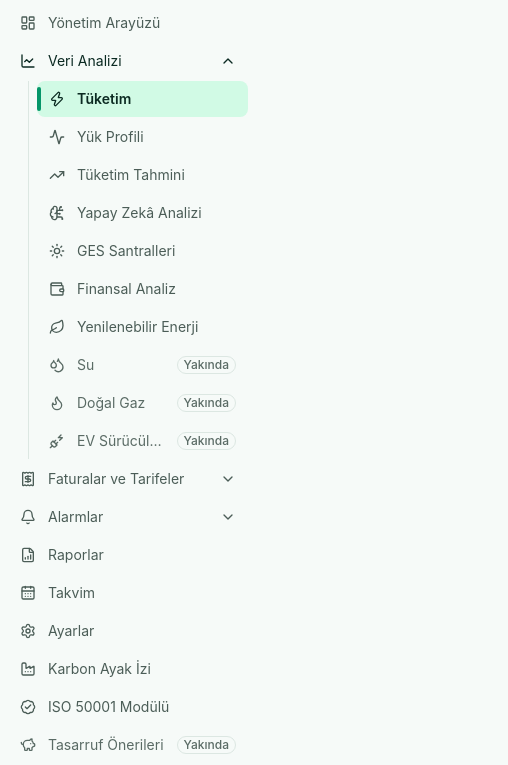
Sidebar › disabled entries are visible, not links, and explain why
Click the button "Alarmlar": {"x": 128, "y": 517} [8,499,248,535]
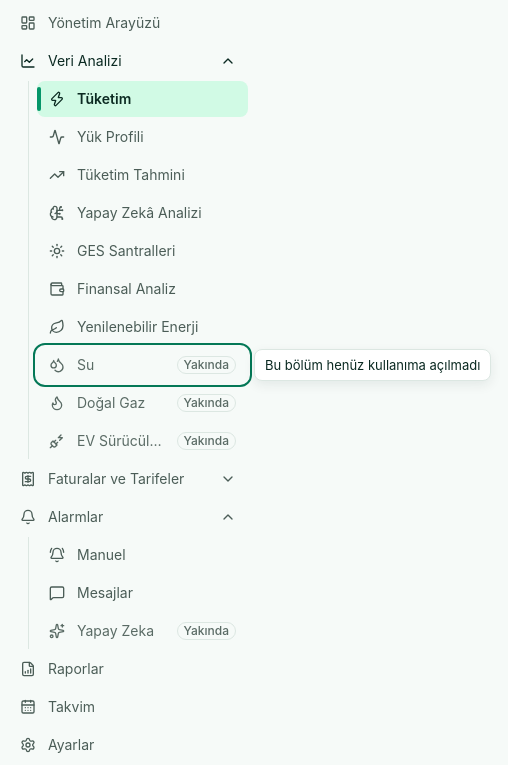
Expected: the tooltip reads "Bu bölüm henüz kullanıma açılmadı", [265,357,480,373]
